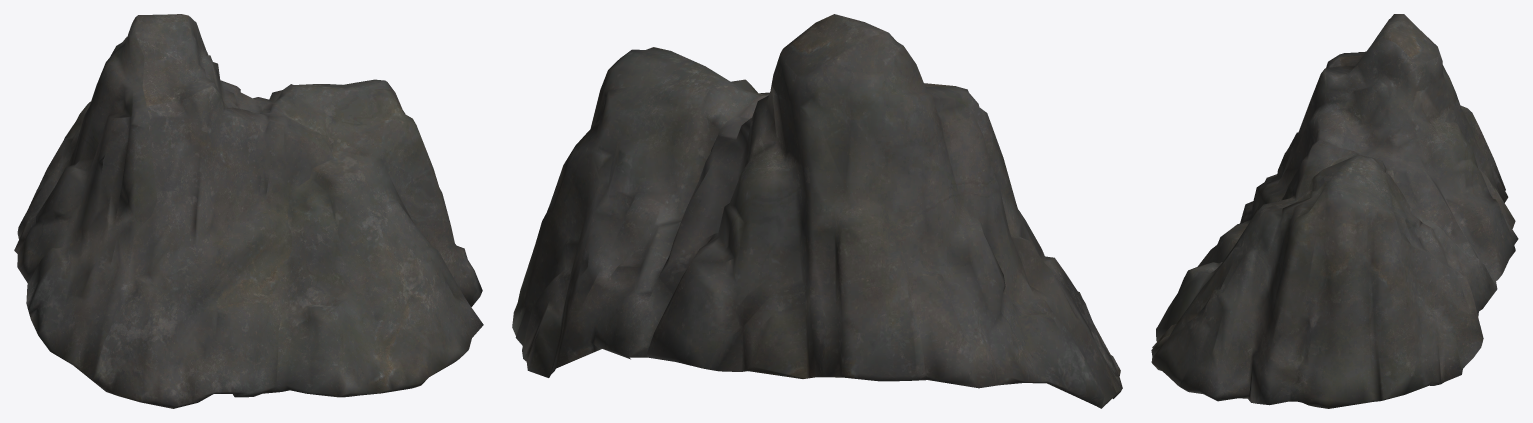
Rendered from Cliff_W2_04.fbx.
3 views of the same model, side by side, from view 1: azimuth 30°, elevation 25°; view 2: azimuth 150°, elevation 25°; view 3: azimuth 270°, elevation 25° (orthographic). The views are drawn at different scales.
Visible parts, largest first — view 1: SM_W2_Cliff_04.mo; view 2: SM_W2_Cliff_04.mo; view 3: SM_W2_Cliff_04.mo.
Boxes of the visible parts, left/top/right/bottom form: SM_W2_Cliff_04.mo: left=14, top=14, right=483, bottom=408; SM_W2_Cliff_04.mo: left=512, top=14, right=1122, bottom=408; SM_W2_Cliff_04.mo: left=1151, top=14, right=1518, bottom=408.
Size of the model in its own units: 3011 by 2147 by 2472.
Materials: 1 (1 with a texture image).
